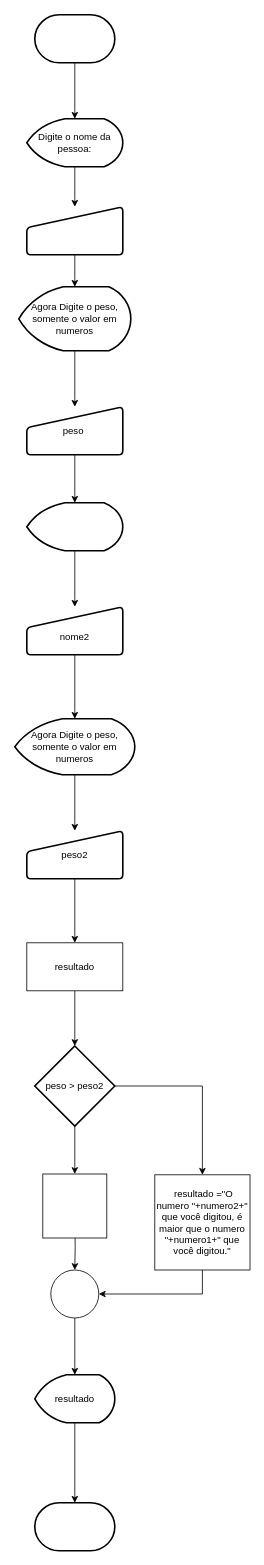
This 264x1565 diagram has some shape labels left out. Each missing label, with the centre of its shape:
Digite o nome da Segunda pessoa:: point 74,526
fim: point 74,1526
inicio: point 74,38
nome: point 74,230
resultado = nome+ ", pesa: " +peso+ "kg": point 74,1205
